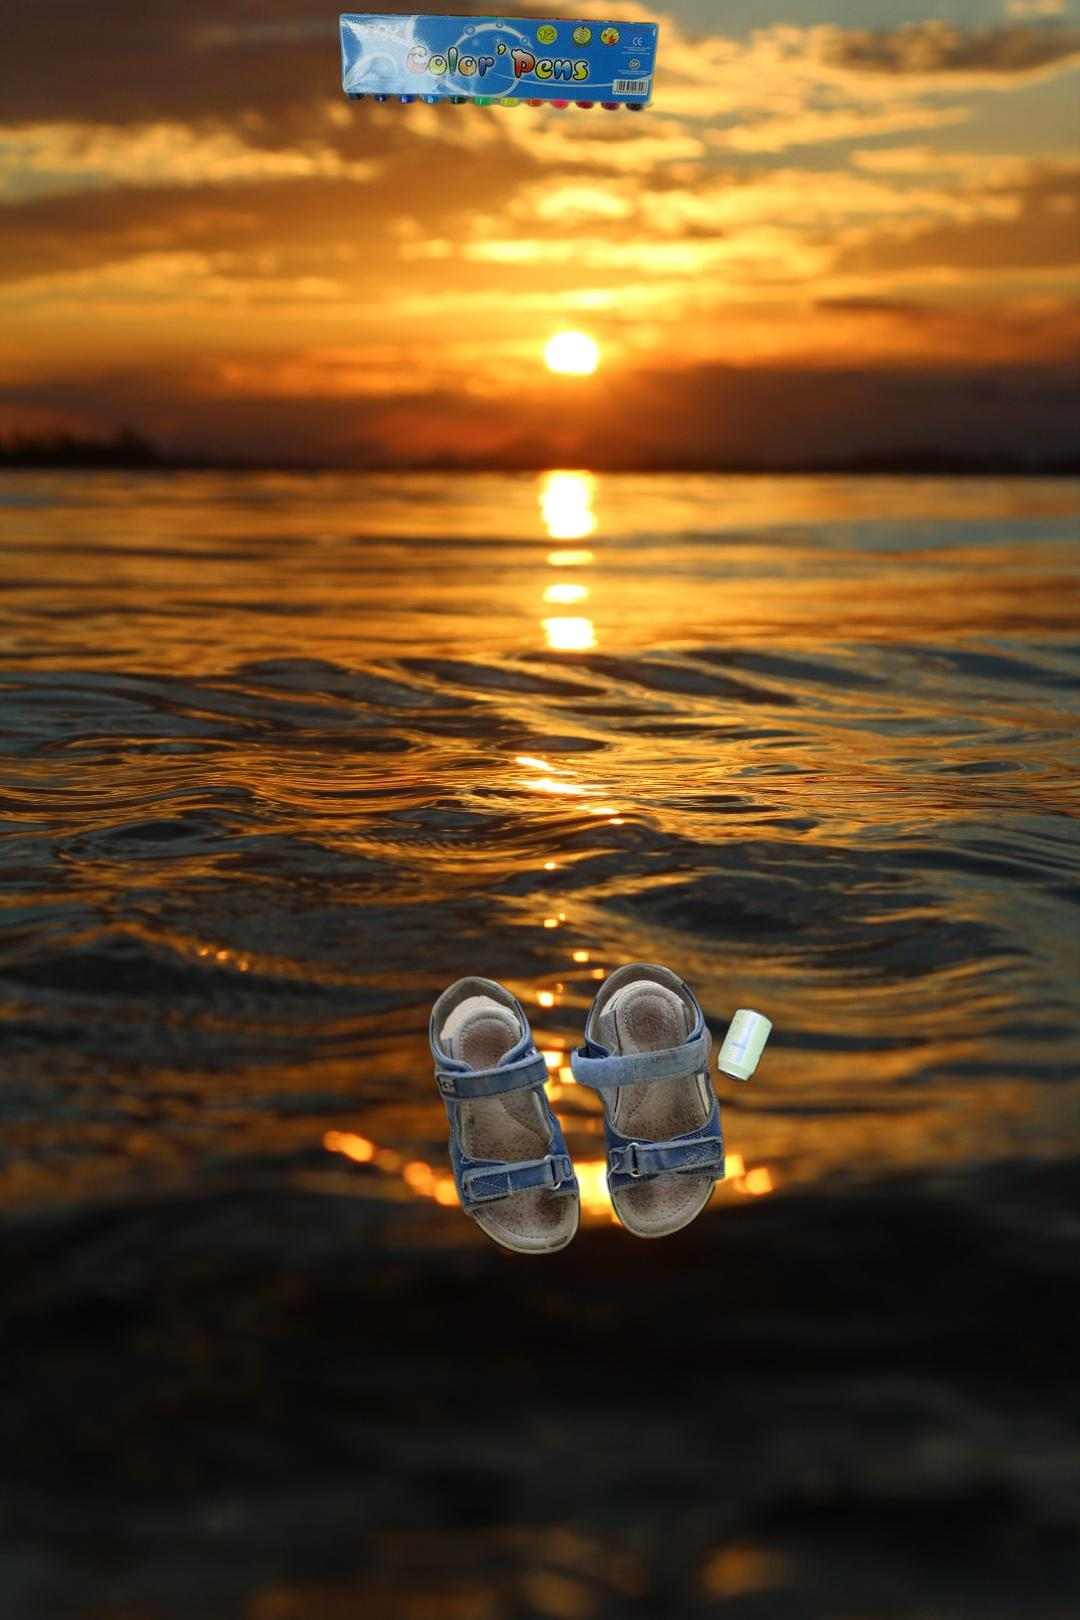metal-cans: (714, 1002, 777, 1088)
penholder: (335, 10, 662, 115)
shoes: (425, 958, 728, 1260)
